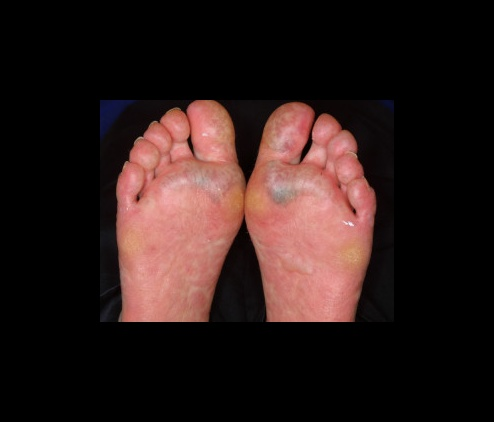SJS-TEN: (232, 94, 391, 331), (109, 96, 249, 326)
